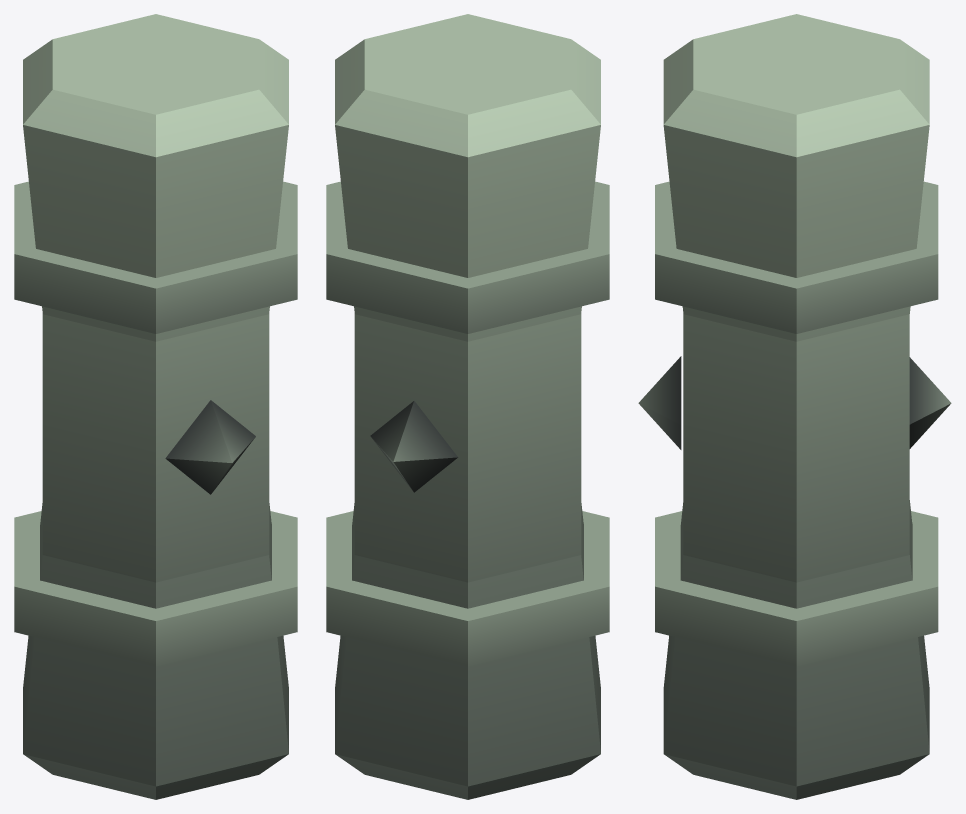
File: decor_007.fbx
3 renders of one model, left to right at view 1: azimuth 30°, elevation 25°; view 2: azimuth 150°, elevation 25°; view 3: azimuth 270°, elevation 25°, orthographic.
Parts seen in each view (by area): view 1: decor.007; view 2: decor.007; view 3: decor.007.
Part boxes in pixels (x1,y1,x2,y2): decor.007: [14, 14, 297, 799]; decor.007: [326, 14, 609, 799]; decor.007: [638, 14, 951, 799].
Size of the model in its own units: 10.11 by 23.39 by 9.69.
